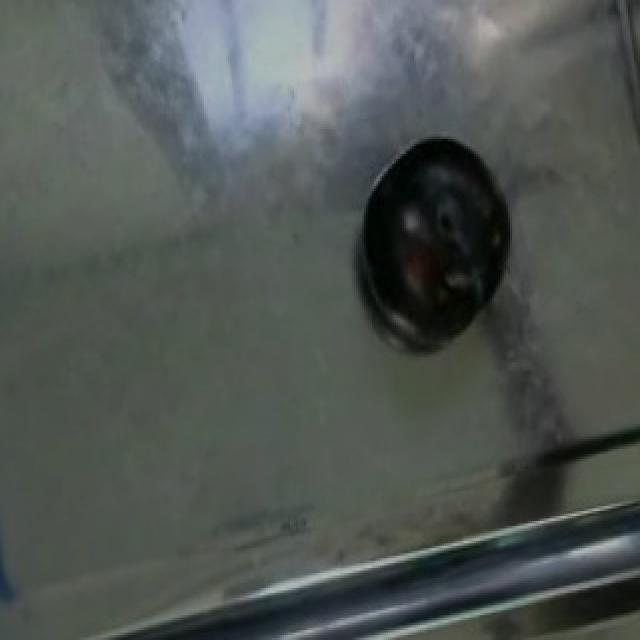Fruit: (350, 122, 520, 325)
